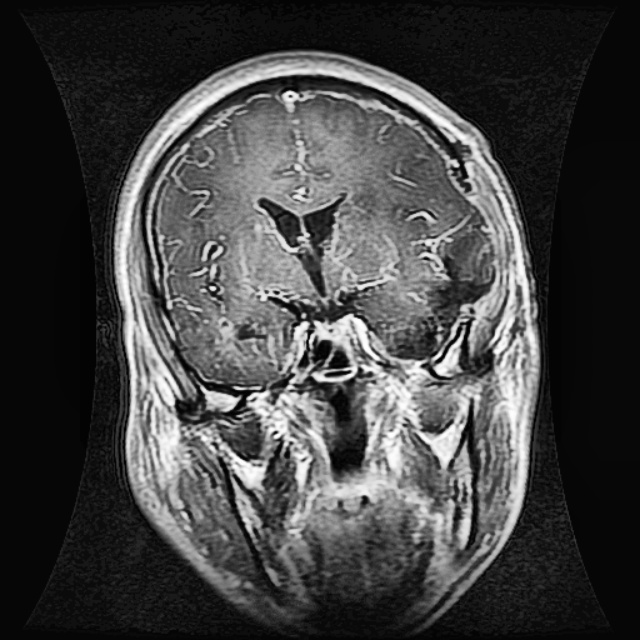Glioma: (377, 248, 490, 360)
